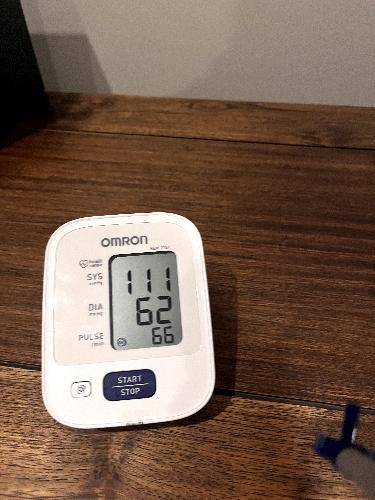bpm: (102, 249, 184, 352)
